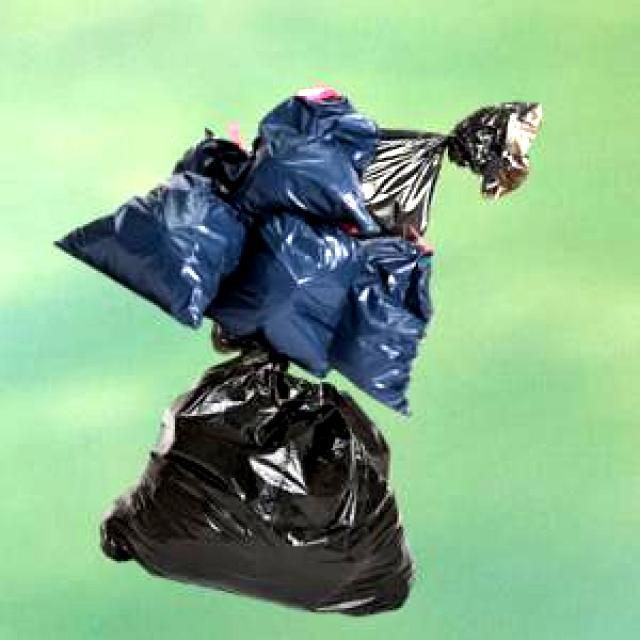Garbage_Bag: (52, 84, 430, 413), (97, 318, 411, 614), (346, 99, 538, 240)
